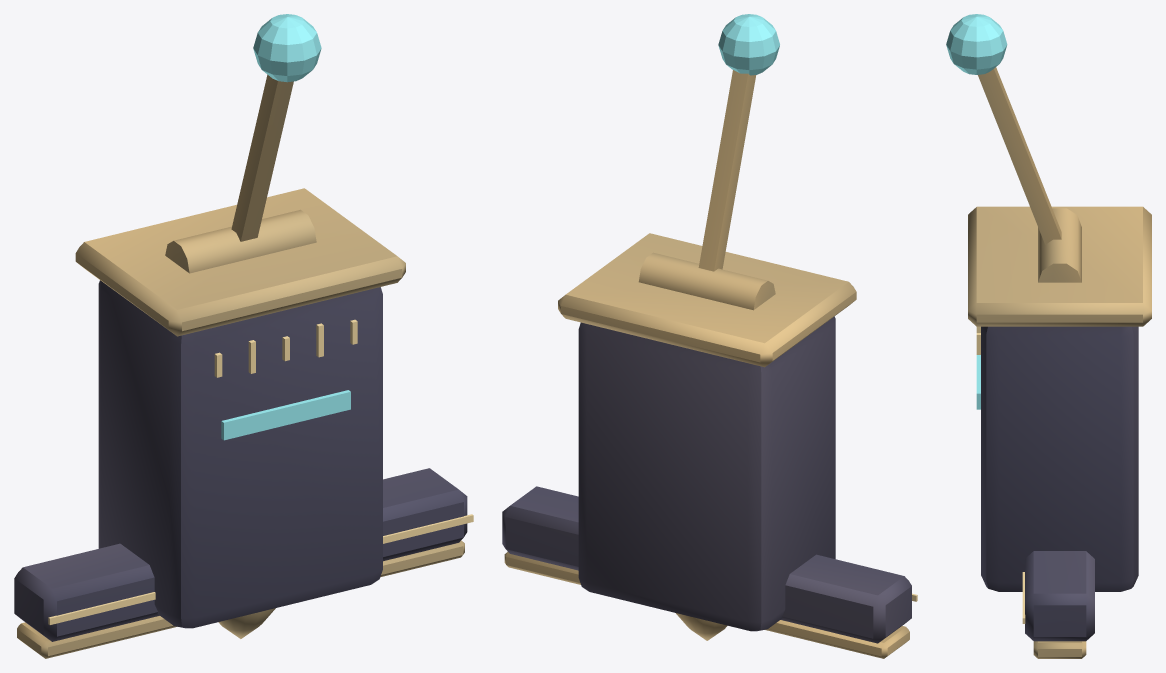
The model's file is pendulum_wave.glb.
3 renders of one model, left to right at view 1: azimuth 30°, elevation 25°; view 2: azimuth 150°, elevation 25°; view 3: azimuth 270°, elevation 25°, orthographic. The views are drawn at different scales.
Parts seen in each view (by area): view 1: lever_base, rail, lever_arm, bob; view 2: lever_base, rail, lever_arm, bob; view 3: lever_base, lever_arm, rail.
Boxes of the visible parts, x1,y1,x2,y2 form: lever_base: [75, 188, 405, 628]; rail: [14, 468, 473, 658]; lever_arm: [165, 14, 321, 273]; bob: [218, 608, 275, 638]; lever_base: [558, 233, 856, 631]; rail: [502, 486, 917, 658]; lever_arm: [638, 14, 779, 310]; bob: [676, 613, 727, 640]; lever_base: [968, 206, 1151, 591]; lever_arm: [946, 14, 1081, 282]; rail: [1022, 551, 1094, 658].
Size of the model in its own units: 1 by 1.48 by 0.47.
